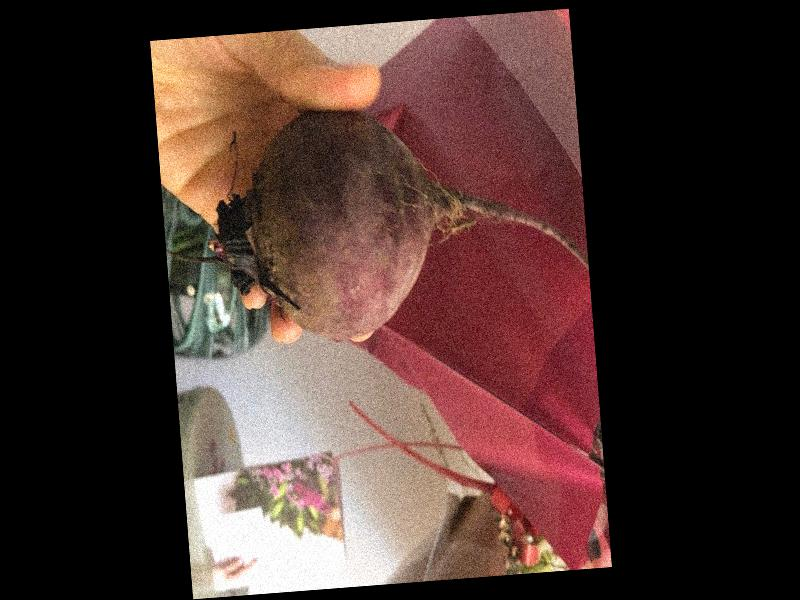Beet: (159, 91, 591, 353)
